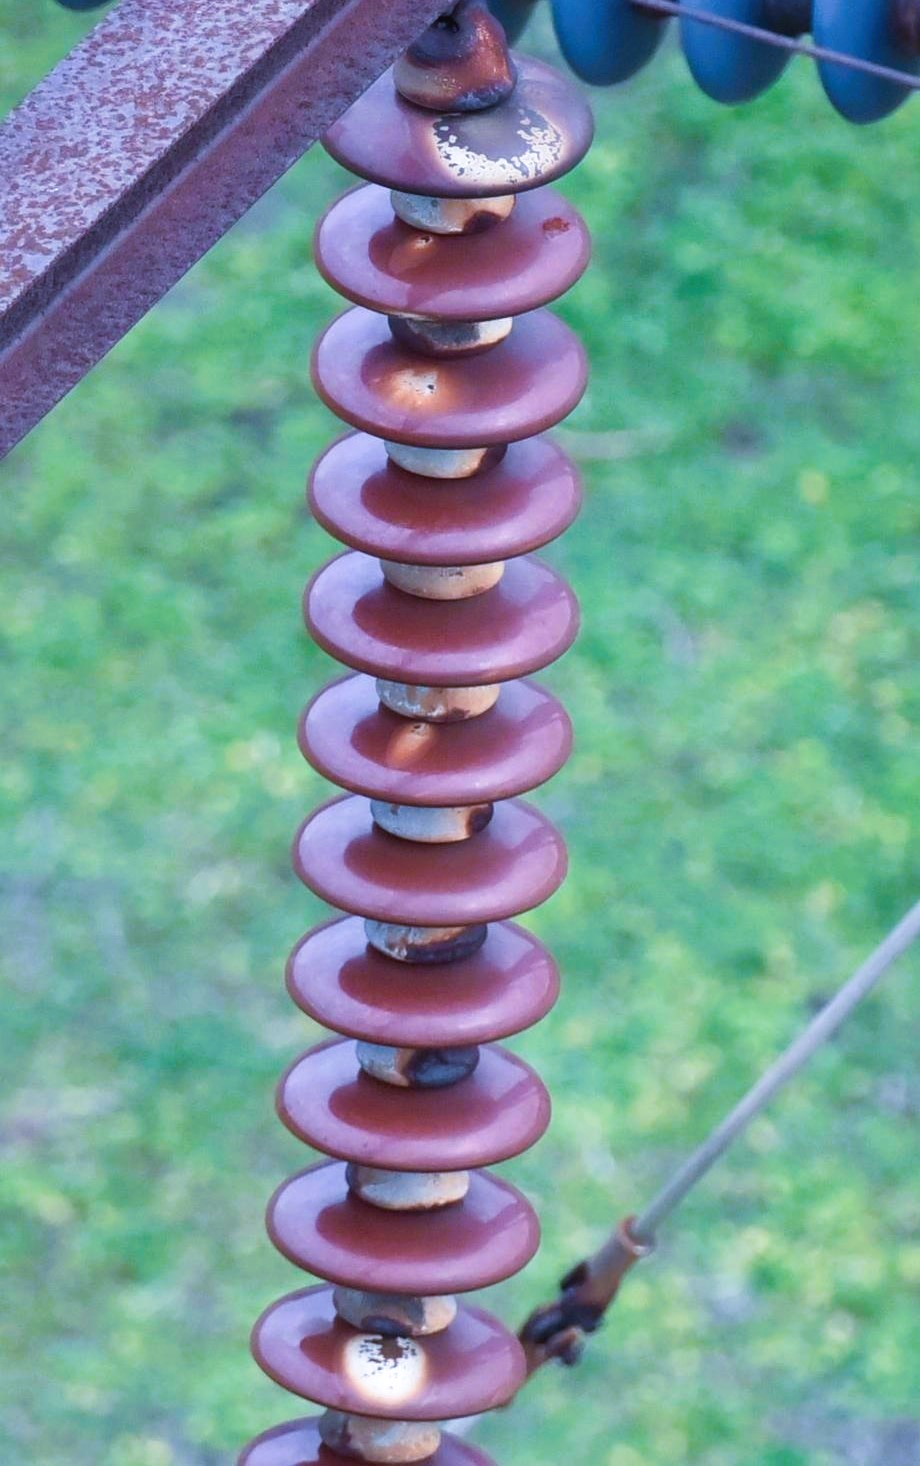Insulator flashover: (317, 27, 609, 204), (235, 1274, 537, 1442)
